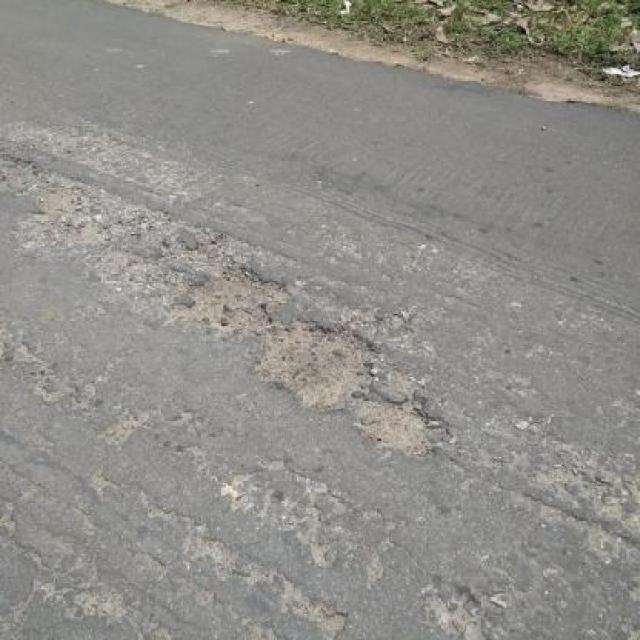Pothole: (0, 149, 125, 248), (251, 318, 378, 412), (183, 260, 288, 338), (355, 394, 448, 464)
